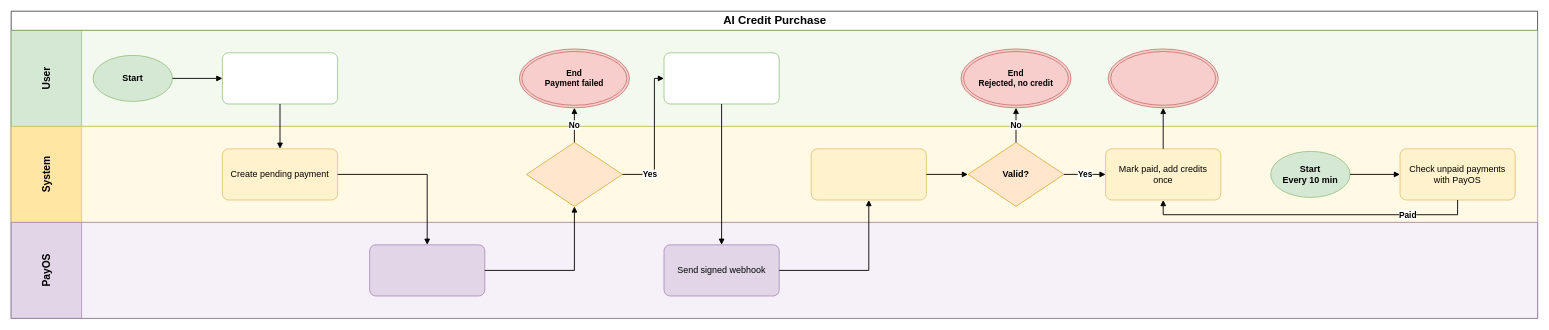
Image size: 1549x330. Some labels were removed from this diagram. The box of each missing label's shape, as (x1, y1, x2, y2) in pixels:
Choose credit package: (222, 52, 338, 104)
Create payment link (15 min): (369, 244, 485, 296)
End Credits added: (1108, 48, 1218, 108)
Link created?: (526, 142, 622, 206)
Pay by QR: (663, 52, 779, 104)
Verify signature and amount: (811, 148, 926, 200)
